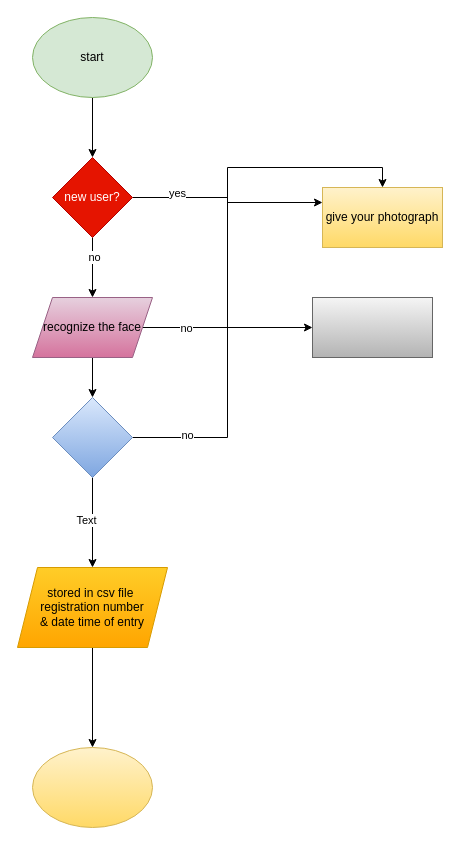
Some shapes in this 460 by 845 pixel diagram are drawn without their labels. Each missing label, with the centre of its shape:
"end" belongs at (x=92, y=787).
"face recognized" belongs at (x=92, y=437).
"store the face data in folder on your name" belongs at (x=372, y=327).
